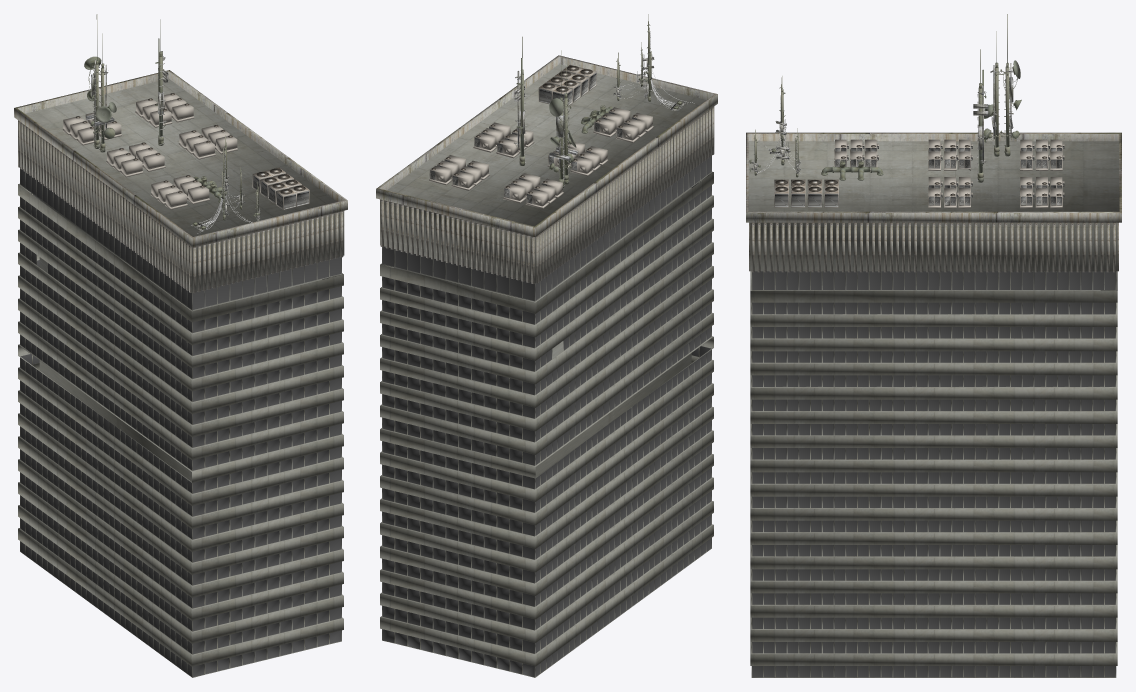
The model's file is regular building.glb.
The picture shows the model from 3 angles, left to right: view 1: azimuth 30°, elevation 25°; view 2: azimuth 150°, elevation 25°; view 3: azimuth 270°, elevation 25°; orthographic projection. The views are drawn at different scales.
Visible parts, largest first — view 1: Regular Building; view 2: Regular Building; view 3: Regular Building.
Boxes of the visible parts, x1,y1,x2,y2 form: Regular Building: [14, 14, 347, 677]; Regular Building: [376, 14, 717, 677]; Regular Building: [746, 14, 1121, 677].
Size of the model in its own units: 16.92 by 59.23 by 33.57.
14 materials, 11 textured.
